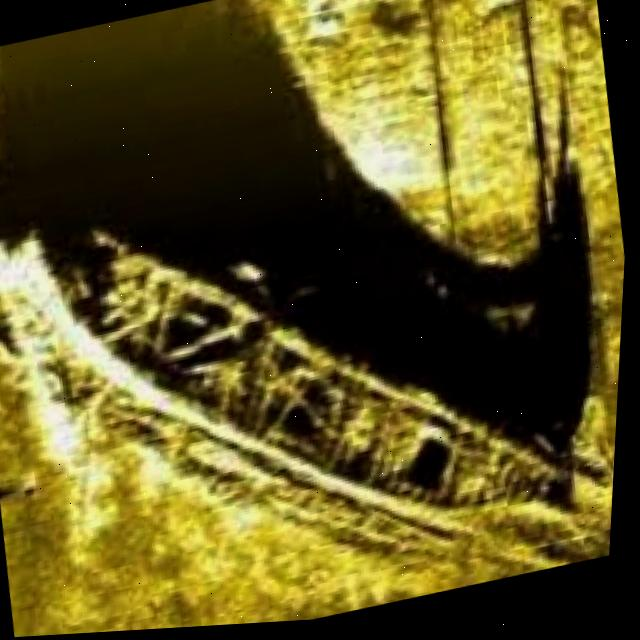shipwreck: (3, 125, 604, 625)
